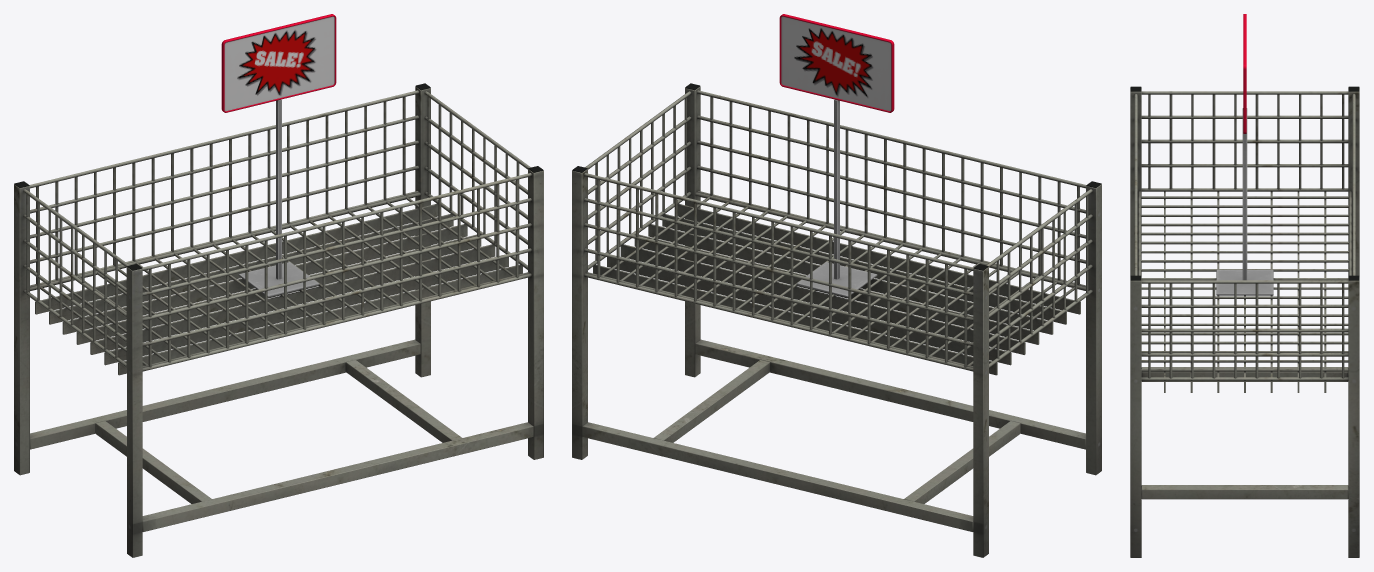
Rendered from video_store_bargain_table.obj.
3 views of the same model, side by side, from view 1: azimuth 30°, elevation 25°; view 2: azimuth 150°, elevation 25°; view 3: azimuth 270°, elevation 25° (orthographic). The views are drawn at different scales.
Visible parts, largest first — view 1: Mesh58_Group66_Group61_Group1_Model; view 2: Mesh58_Group66_Group61_Group1_Model; view 3: Mesh58_Group66_Group61_Group1_Model.
Boxes of the visible parts, x1=… form: Mesh58_Group66_Group61_Group1_Model: x1=14, y1=14, x2=543, y2=557; Mesh58_Group66_Group61_Group1_Model: x1=572, y1=14, x2=1101, y2=557; Mesh58_Group66_Group61_Group1_Model: x1=1130, y1=14, x2=1359, y2=557.
Size of the model in its own units: 1.2 by 1.22 by 0.6.
Materials: 1 (1 with a texture image).
